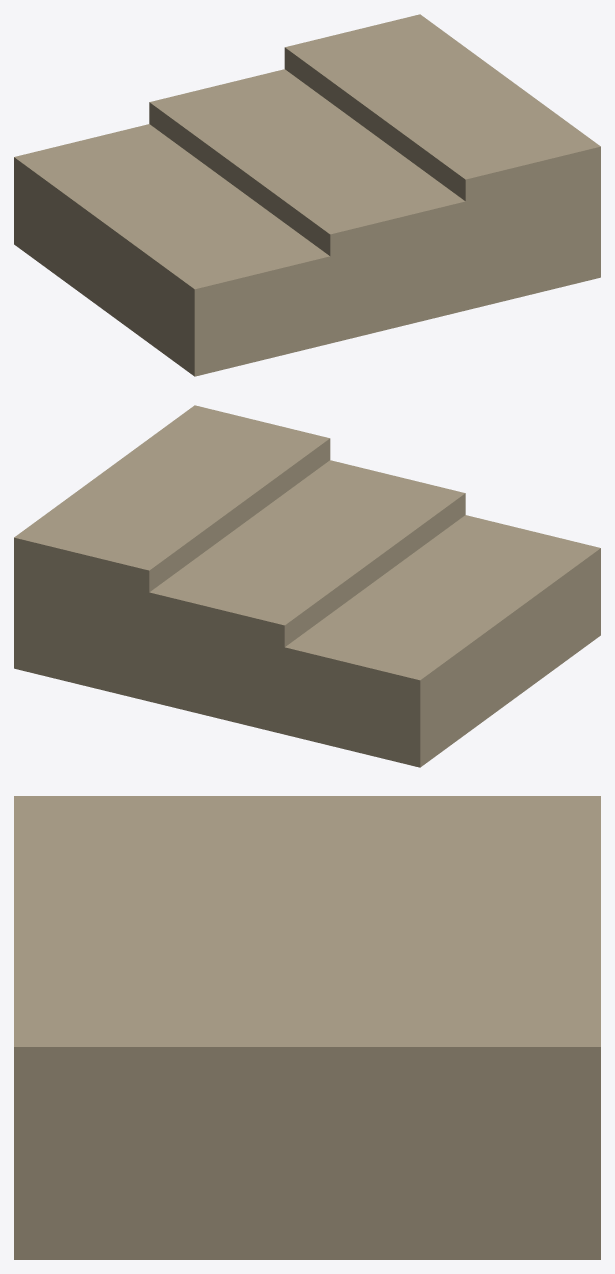
The model's file is Bridge_Stairs.fbx.
The picture shows the model from 3 angles, top to bottom: view 1: azimuth 30°, elevation 25°; view 2: azimuth 150°, elevation 25°; view 3: azimuth 270°, elevation 25°; orthographic projection. The views are drawn at different scales.
Visible parts, largest first — view 1: Bridge_Stairs; view 2: Bridge_Stairs; view 3: Bridge_Stairs.
Boxes of the visible parts, x1,y1,x2,y2 form: Bridge_Stairs: (14,14,600,376); Bridge_Stairs: (14,405,600,767); Bridge_Stairs: (14,796,600,1259).
Bounding box in the file's own units: 148 × 192 × 59.13.
